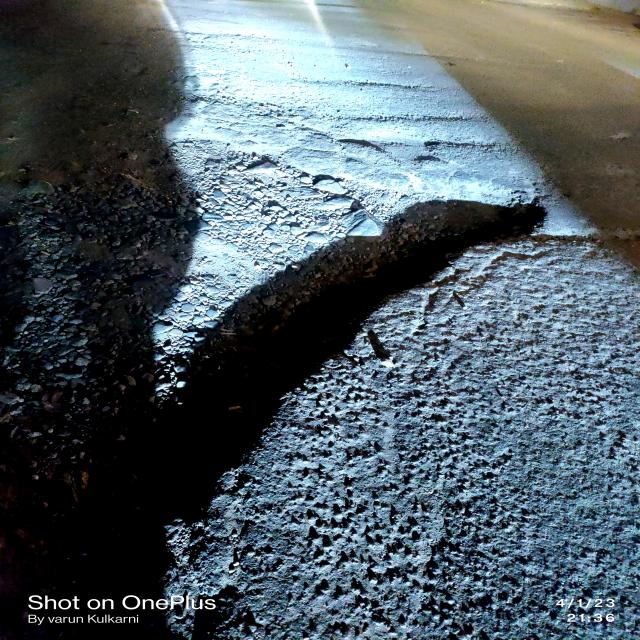potholes: (170, 191, 570, 640), (282, 52, 456, 94), (382, 101, 508, 129), (414, 136, 530, 148), (339, 102, 380, 133)
